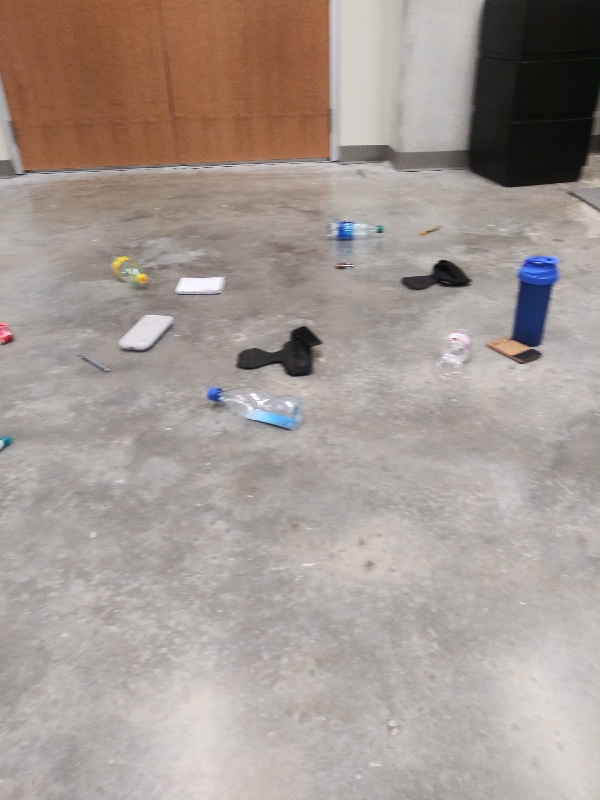bottle: (203, 382, 304, 430), (434, 321, 477, 385), (101, 249, 152, 291), (323, 217, 389, 245)
